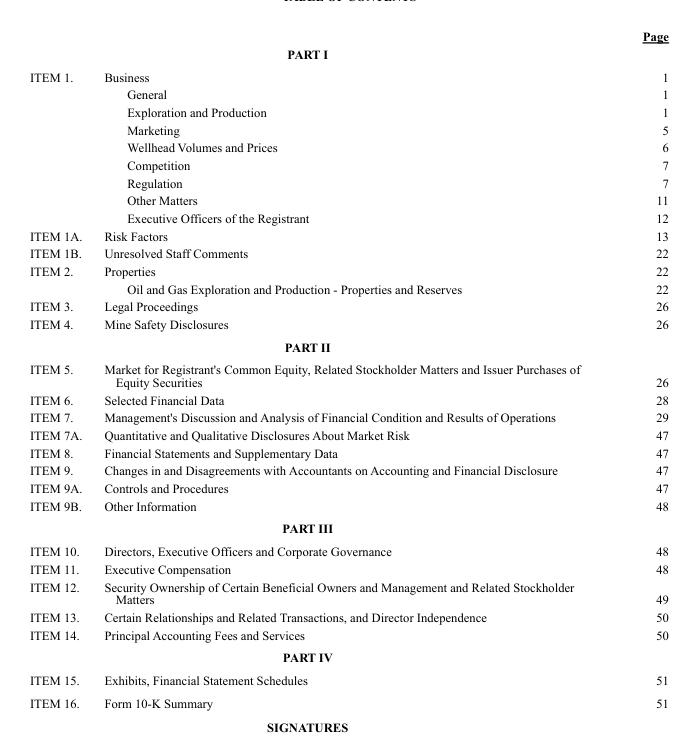table: (28, 28, 667, 709)
table column: (92, 28, 610, 709), (28, 28, 92, 709), (610, 28, 667, 709)
table column header: (28, 28, 667, 44)
table projected row header: (28, 516, 667, 539), (28, 645, 667, 668), (28, 335, 667, 357), (28, 44, 667, 64)
table row: (28, 357, 667, 390), (28, 577, 667, 607), (28, 516, 667, 539), (28, 645, 667, 668), (28, 668, 667, 691), (28, 335, 667, 357), (28, 64, 667, 85), (28, 314, 667, 335), (28, 44, 667, 64), (28, 496, 667, 516), (28, 539, 667, 559), (28, 625, 667, 645), (28, 102, 667, 120), (28, 120, 667, 138), (28, 155, 667, 173), (28, 173, 667, 191), (28, 208, 667, 226), (28, 226, 667, 244), (28, 261, 667, 279), (28, 279, 667, 297), (28, 390, 667, 408), (28, 408, 667, 426), (28, 443, 667, 461), (28, 461, 667, 479), (28, 559, 667, 577), (28, 607, 667, 625), (28, 691, 667, 709), (28, 85, 667, 102), (28, 138, 667, 155), (28, 191, 667, 208), (28, 244, 667, 261), (28, 297, 667, 314), (28, 426, 667, 443), (28, 479, 667, 496), (28, 28, 667, 44)
table spanning cell: (28, 64, 92, 226), (28, 261, 92, 297)
